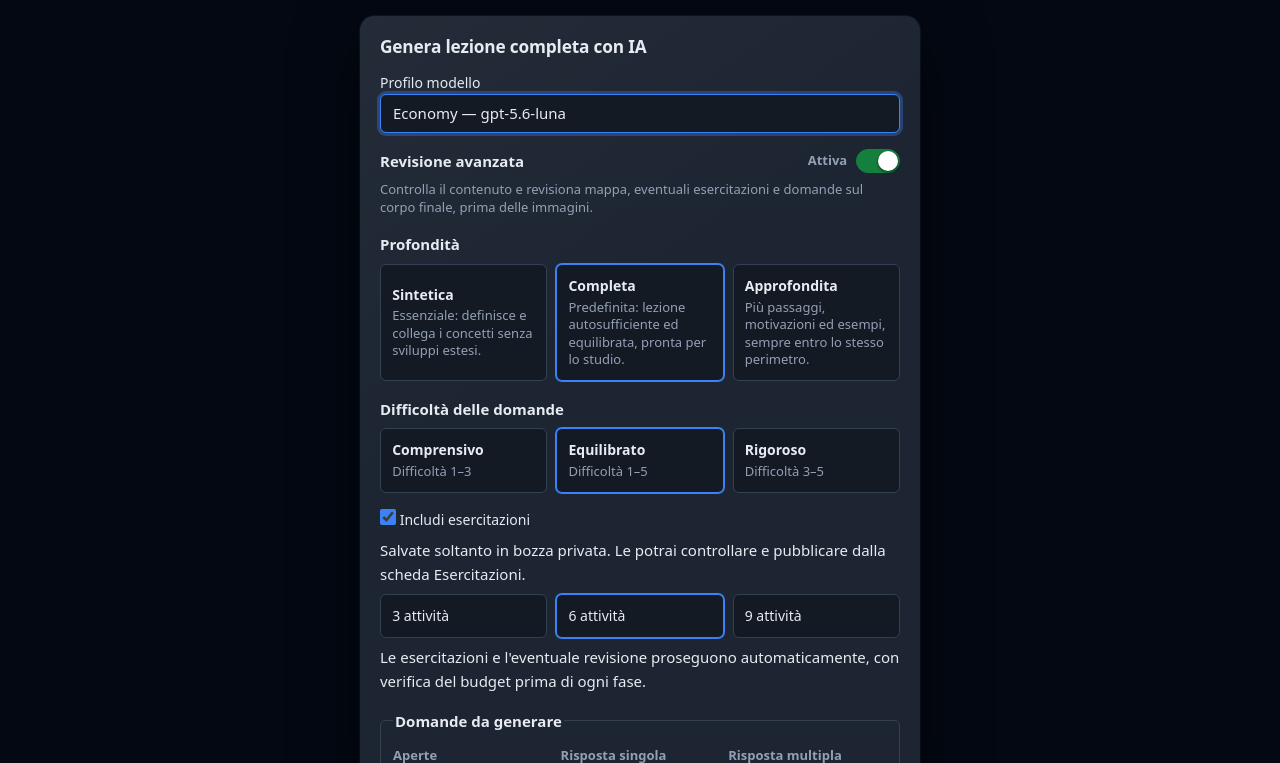
Test: keeps an attempted image unknown when both invocation and status responses fail, despite old known plan costs
The width and height of the screenshot is (1280, 763).
Click the checkbox labelled "Includi esercitazioni" at (388, 517), box [380, 509, 396, 525]
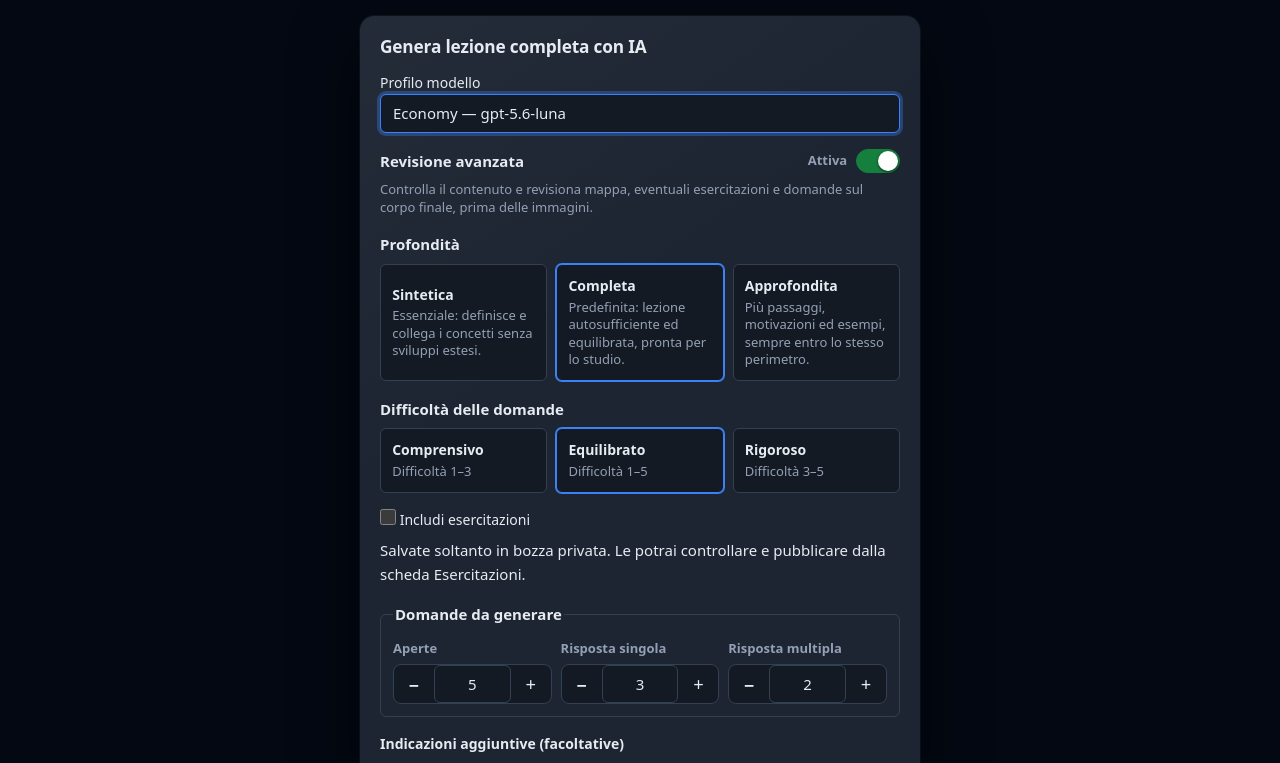
Replace the text in the field named "Aperte" with "1" at (472, 684), box [434, 665, 511, 703]
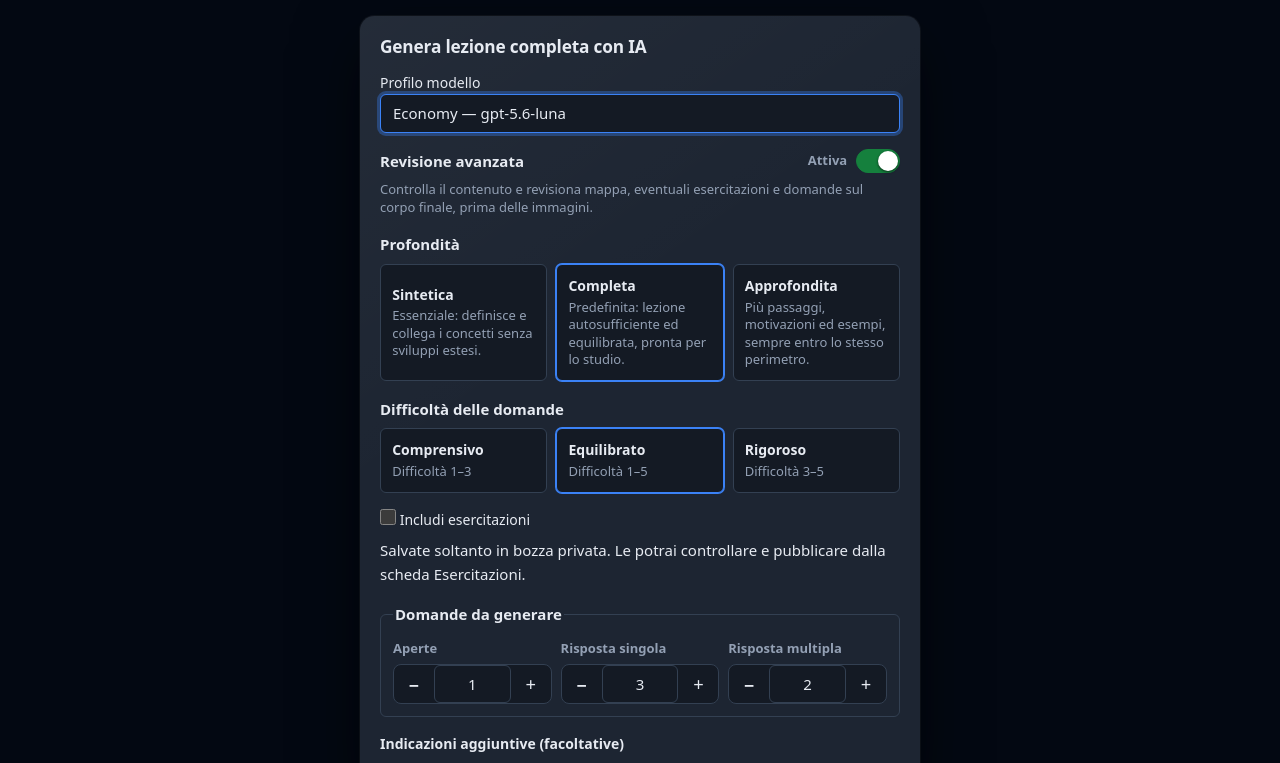
Replace the text in the field named "Risposta singola" with "0" at (640, 684), box [602, 665, 678, 703]
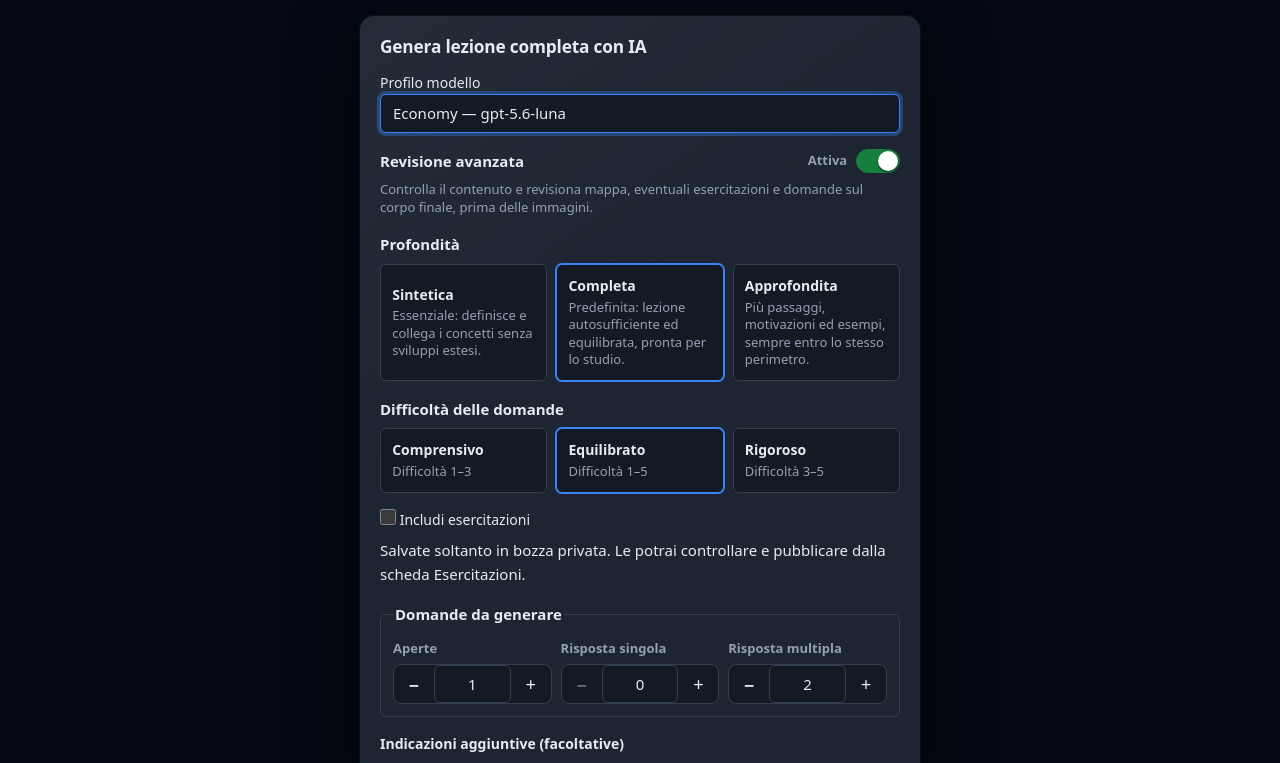
Replace the text in the field named "Risposta multipla" with "0" at (808, 684), box [769, 665, 846, 703]
(page scrolled)
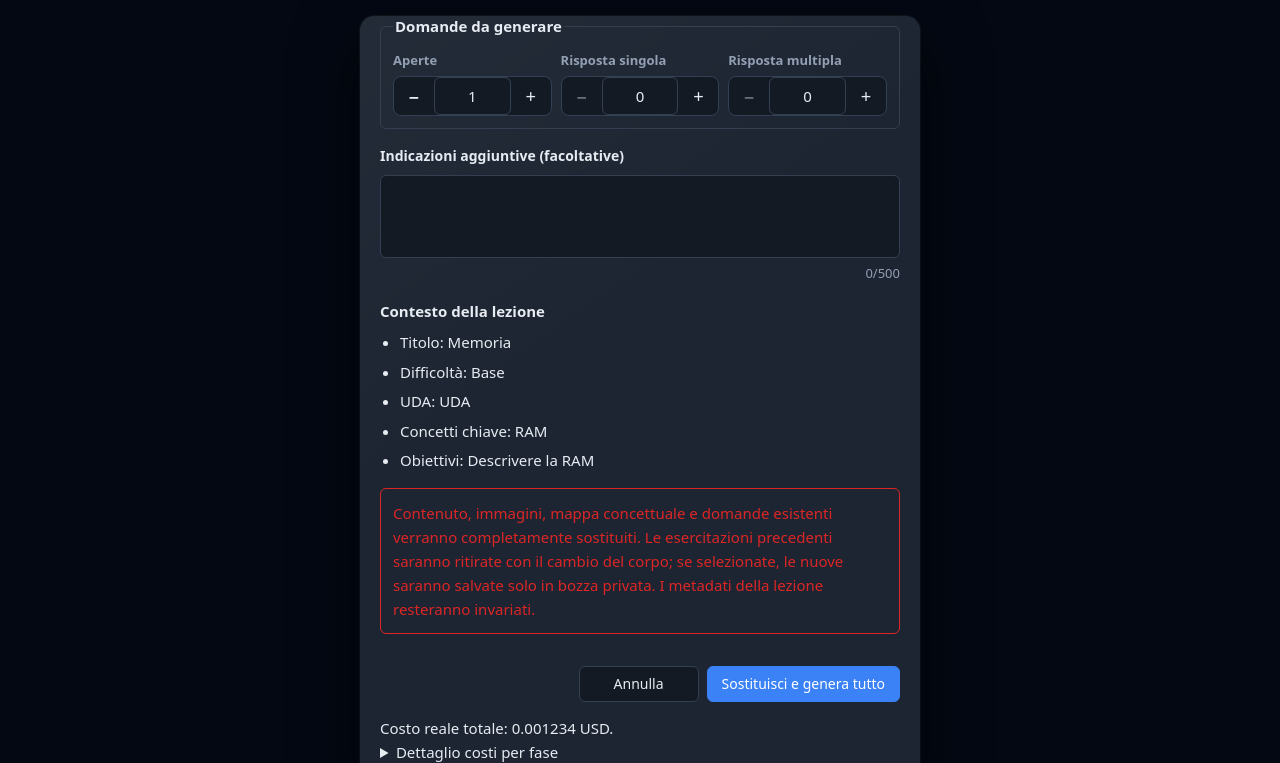
Click the button "Sostituisci e genera tutto" at (803, 684), box [707, 666, 900, 702]
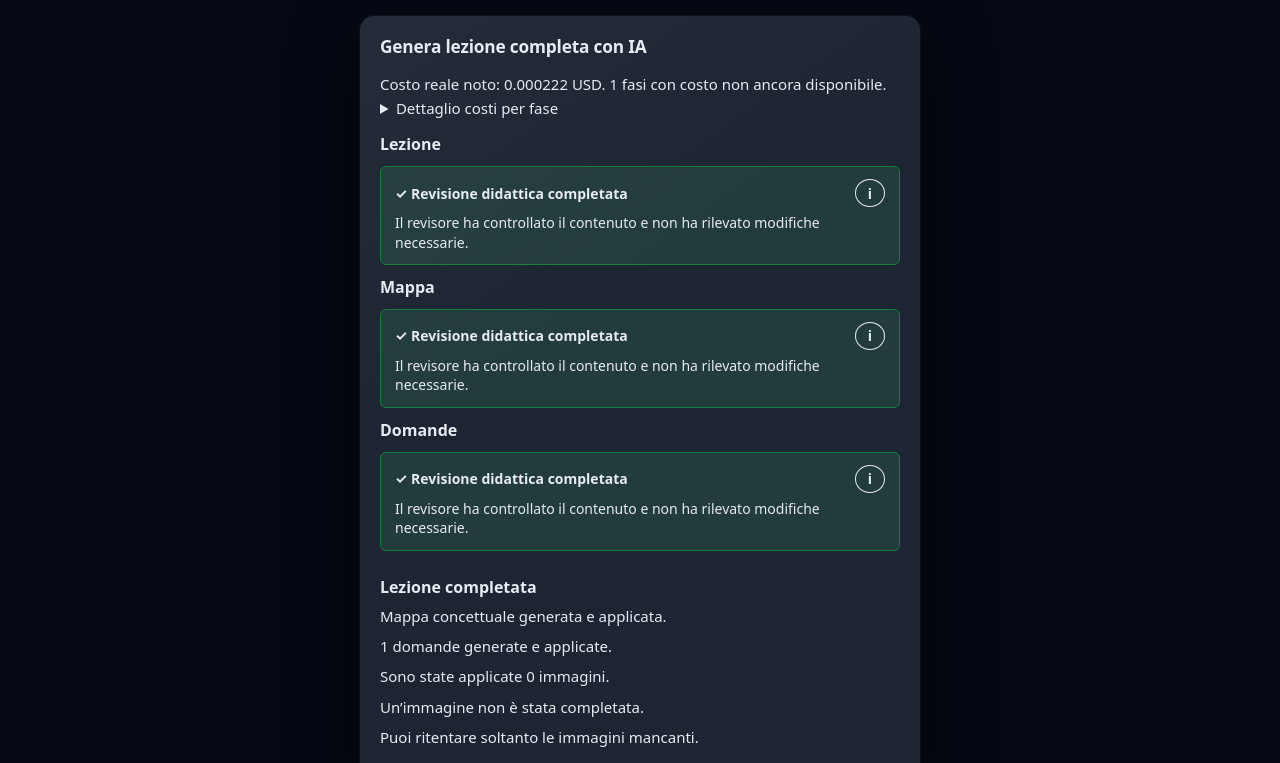
Check: the heading "Lezione completata" is shown, box [380, 576, 537, 598]
Check: the text "fasi con costo non ancora disponibile" is shown, box [606, 74, 887, 94]
